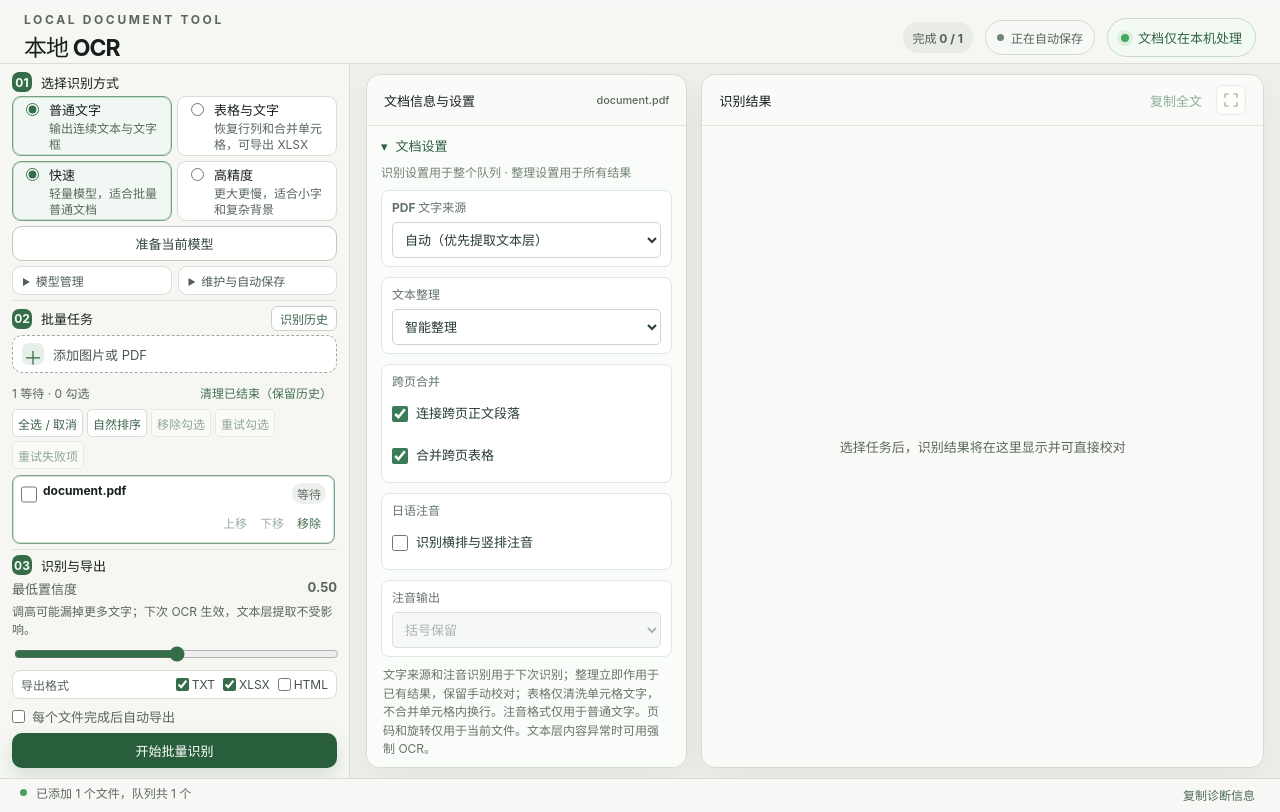
Test: batch and recovery interactions › locks model controls and prevents duplicate starts during file preflight
This screenshot has width=1280, height=812.
Click the button "开始批量识别". click: (174, 751)
box: left=12, top=733, right=337, bottom=768
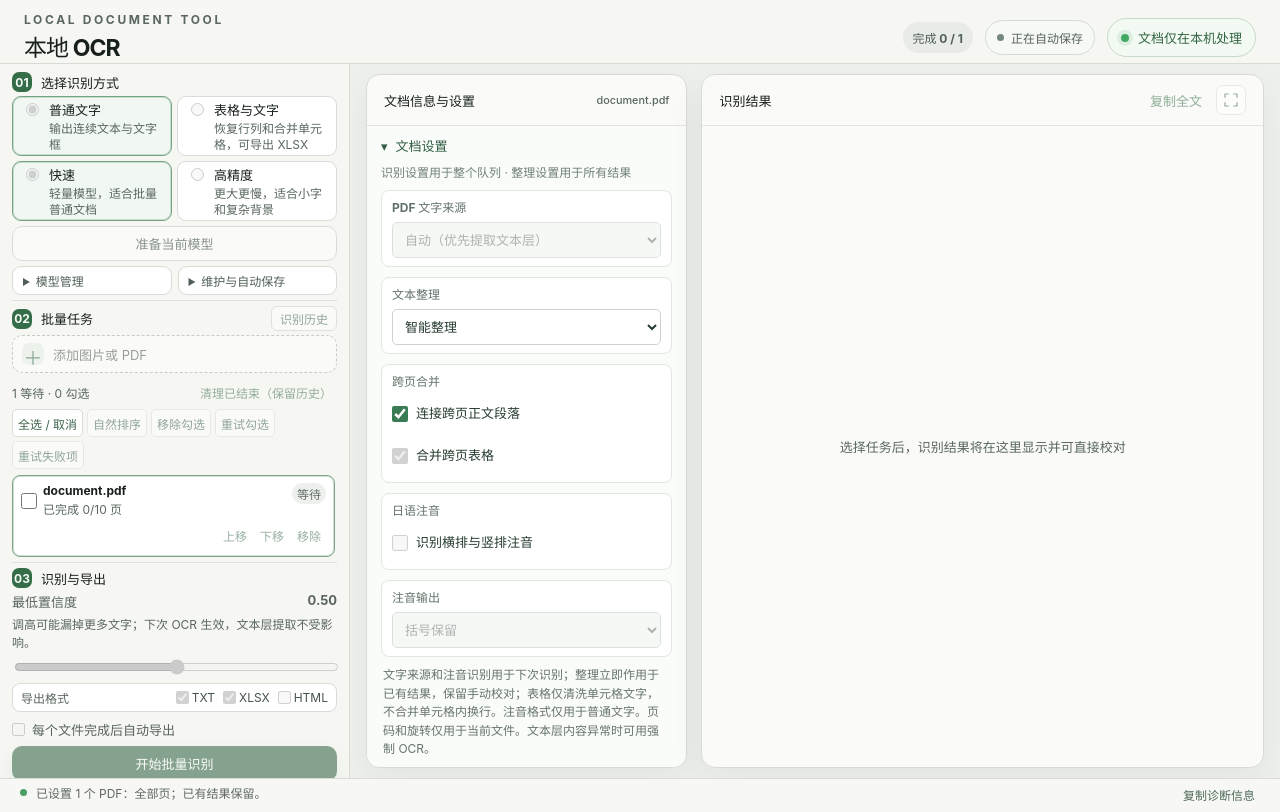
Expected: the radio button labelled "高精度 更大更慢，适合小字和复杂背景" is disabled, left=191, top=168, right=204, bottom=181
Expected: the button "准备当前模型" is disabled, left=12, top=226, right=337, bottom=261
Click the button "开始批量识别". click: (174, 764)
box: left=12, top=746, right=337, bottom=781
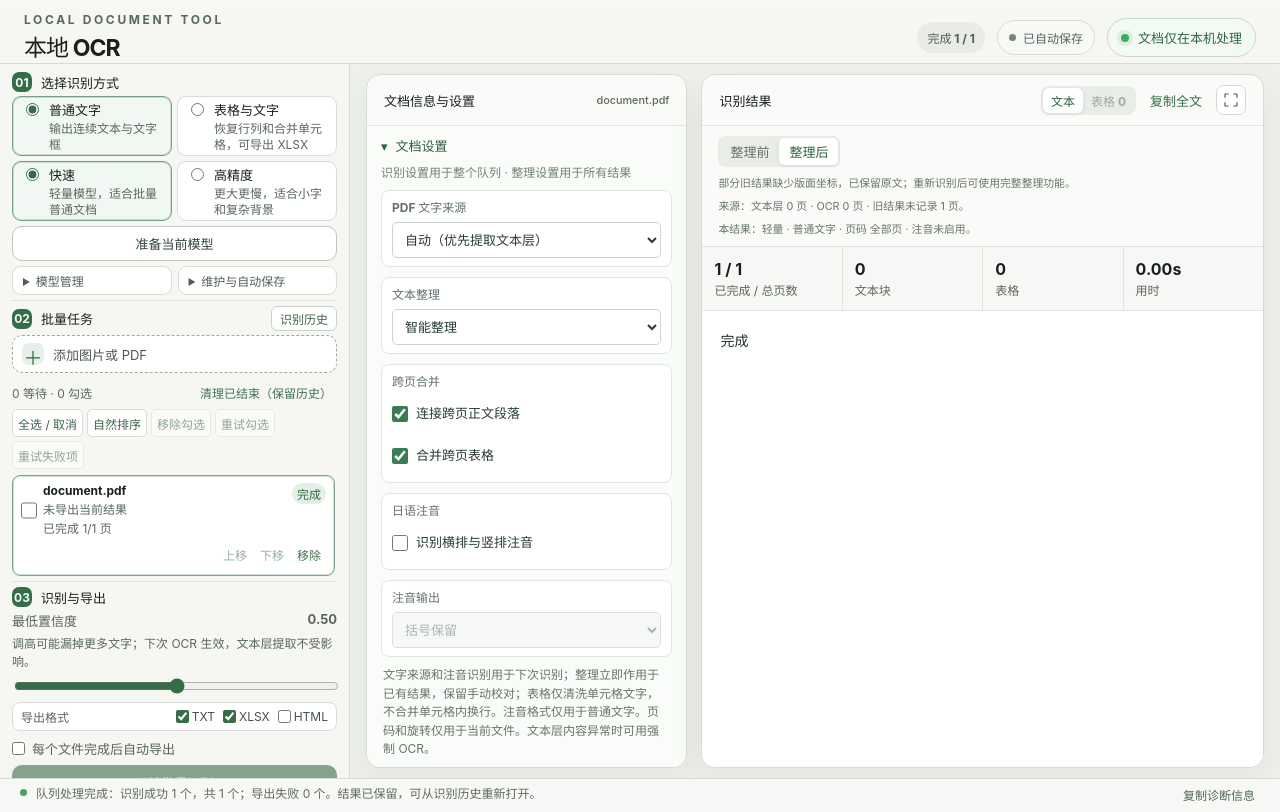
Expected: the radio button labelled "高精度 更大更慢，适合小字和复杂背景" is enabled, left=191, top=168, right=204, bottom=181
